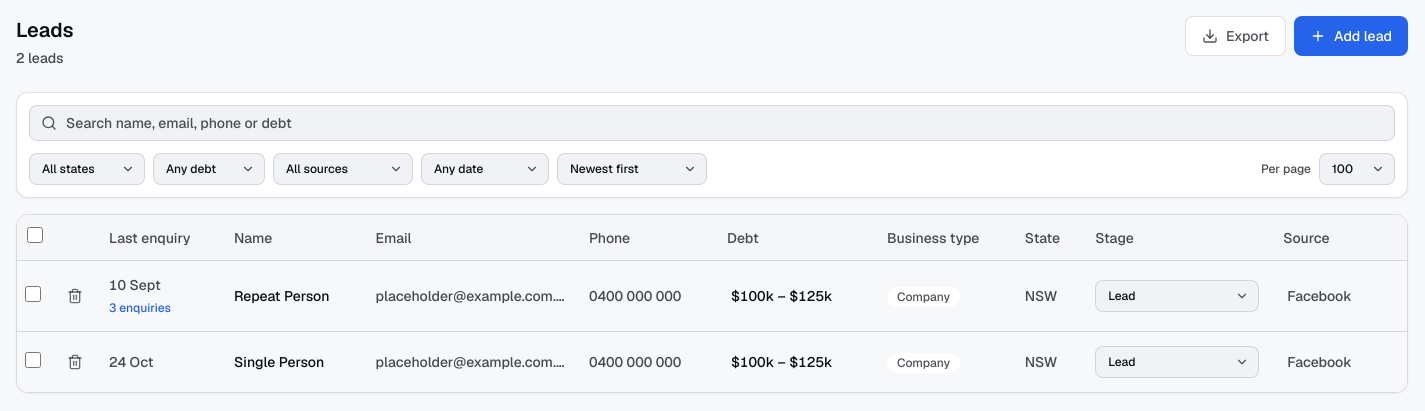
Test case: LeadsPageClient › repeat enquiries › shows how many enquiries a lead has made, and the latest one on hover
expect the text "10 Sept" is shown: met, box x1=109 y1=276 x2=161 y2=294
Hover over the text "3 enquiries" at (140, 308), box x1=109 y1=300 x2=171 y2=316
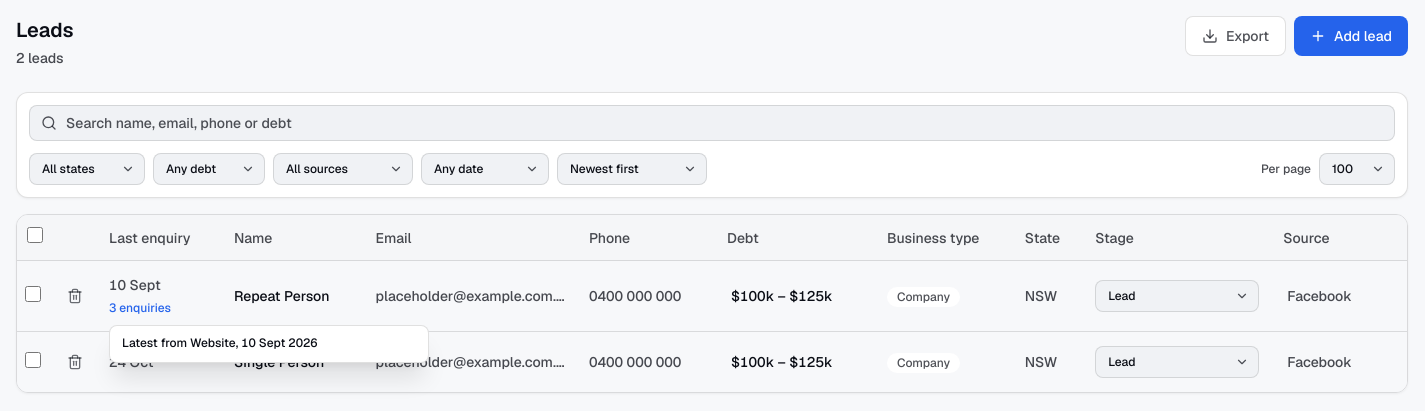
expect the tooltip reads "Latest from Website, 10 Sept 2026": met, box x1=122 y1=335 x2=318 y2=351
